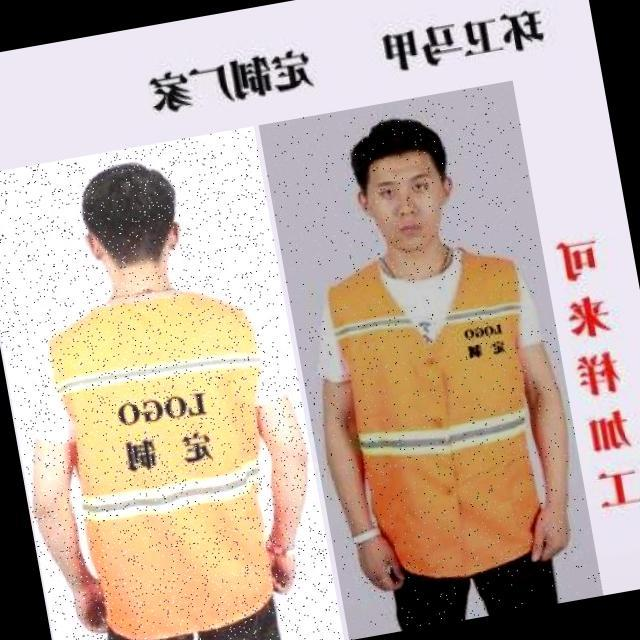Person: (17, 110, 318, 640), (314, 93, 599, 640)
Safety Vest: (33, 270, 307, 640), (320, 240, 565, 589)
bare-arms: (354, 519, 413, 603), (514, 499, 578, 568), (75, 570, 114, 633), (260, 538, 299, 600)
no-helmet: (78, 156, 179, 205), (348, 117, 450, 164)
